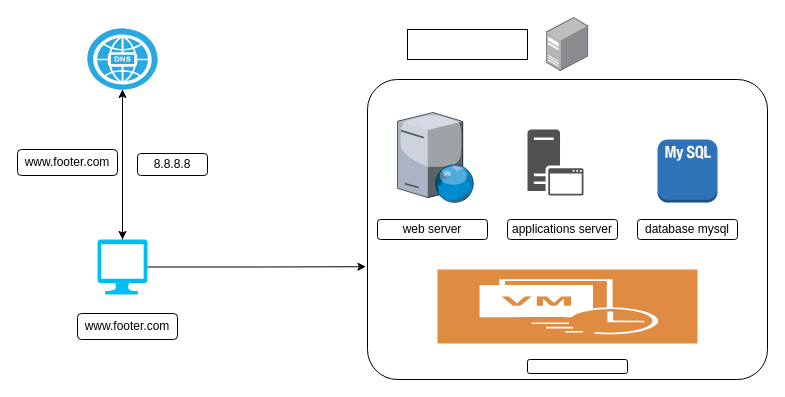
This 785x397 diagram has some shape labels left out. The shapes that lost their labels are listed below. From the top down, each one's centre as x and y in pixels, then its label:
[467,44]: SERVER
[577,366]: code base
